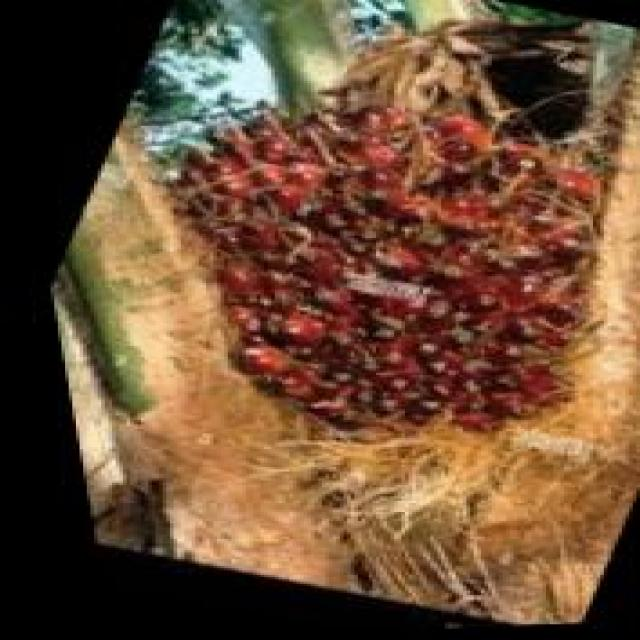Ripefruit: (18, 52, 640, 469)
